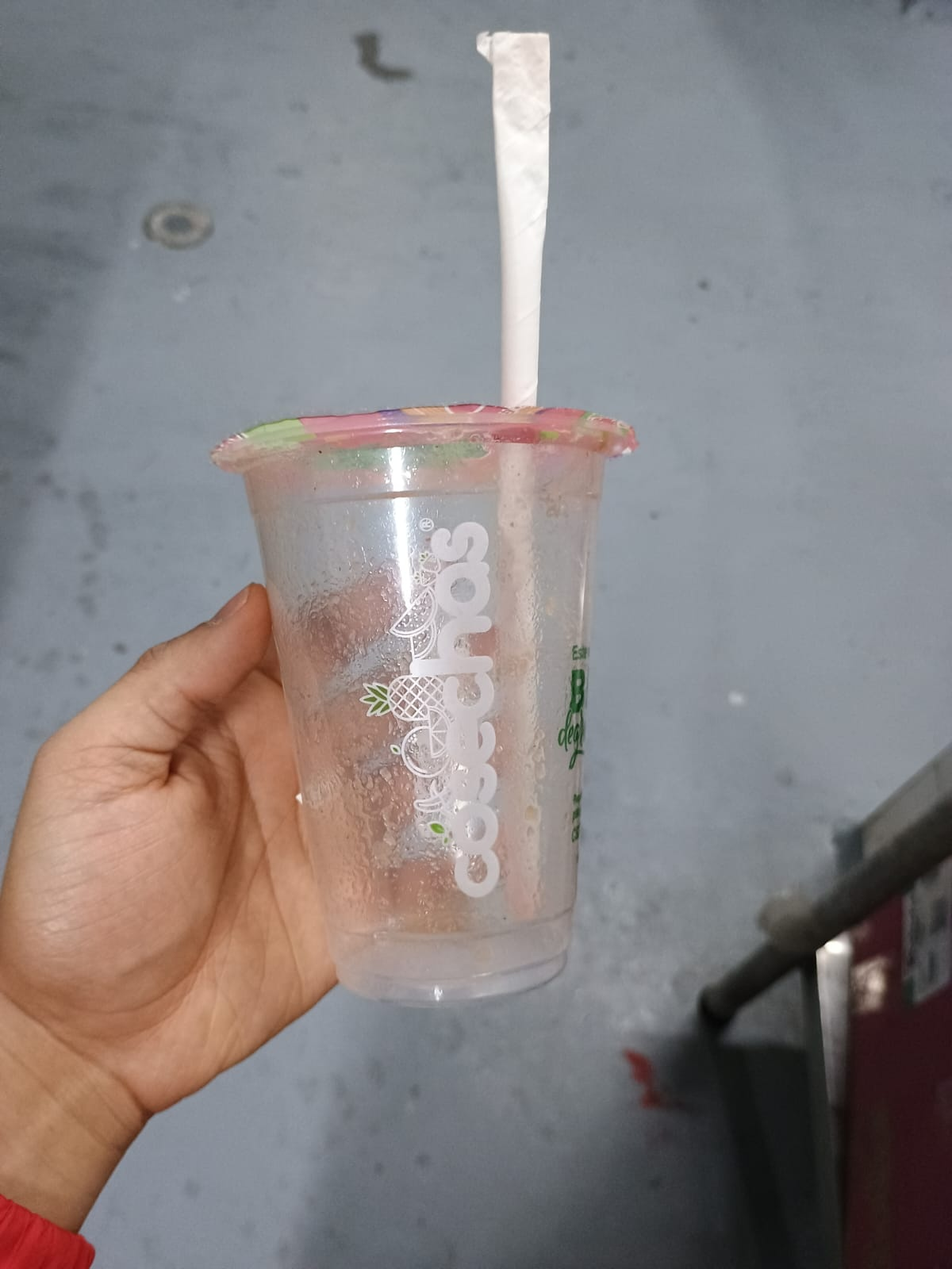Plastico: (209, 404, 641, 1007)
